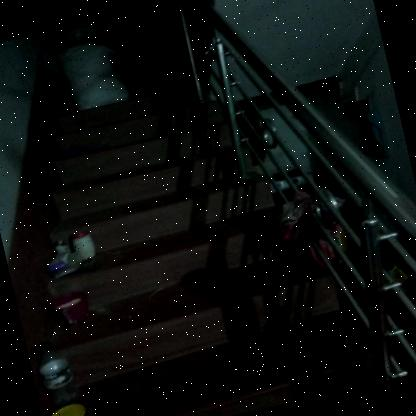stair: (14, 56, 333, 416)
